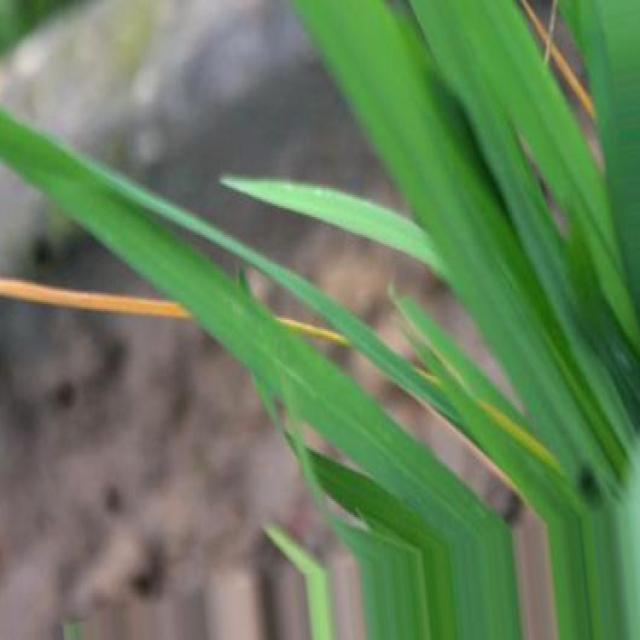Rice Tungro: (521, 0, 594, 117), (0, 278, 191, 317)
